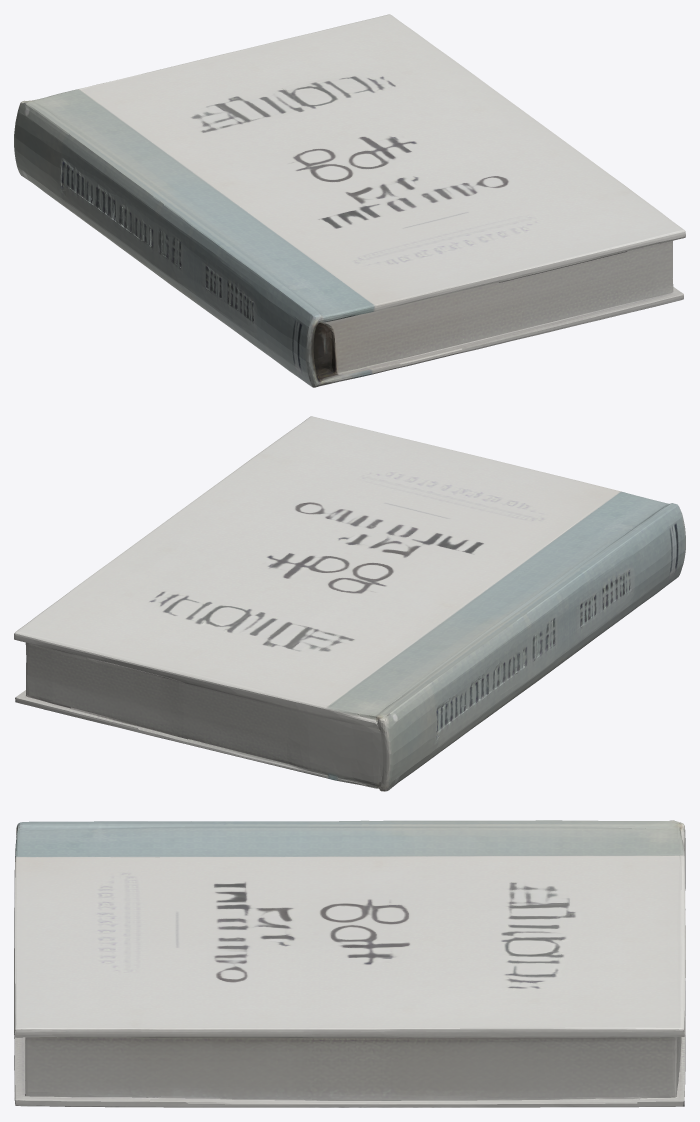
3 views of the same model, one above another, from view 1: azimuth 30°, elevation 25°; view 2: azimuth 150°, elevation 25°; view 3: azimuth 270°, elevation 25° (orthographic). The views are drawn at different scales.
Parts seen in each view (by area): view 1: world; view 2: world; view 3: world.
Part boxes in pixels (x1,y1,x2,y2): world: (14,14,685,387); world: (14,416,685,791); world: (14,820,685,1107).
Bounding box in the file's own units: 0.7342 × 0.1395 × 1.
1 material, 1 textured.
